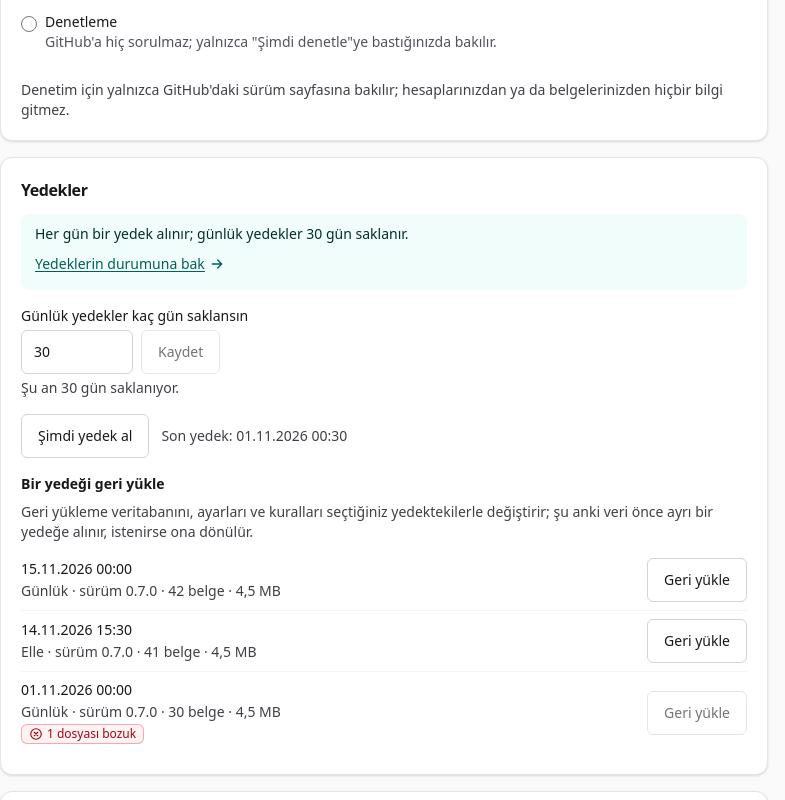
Test: SettingsPage › asks for a backup now and says when the last one was taken
(page scrolled)
Expected: the text "Son yedek: 01.11.2026 00:30" is shown, left=161, top=426, right=347, bottom=446
Click the button "Şimdi yedek al". click: (85, 436)
box: left=21, top=414, right=149, bottom=458
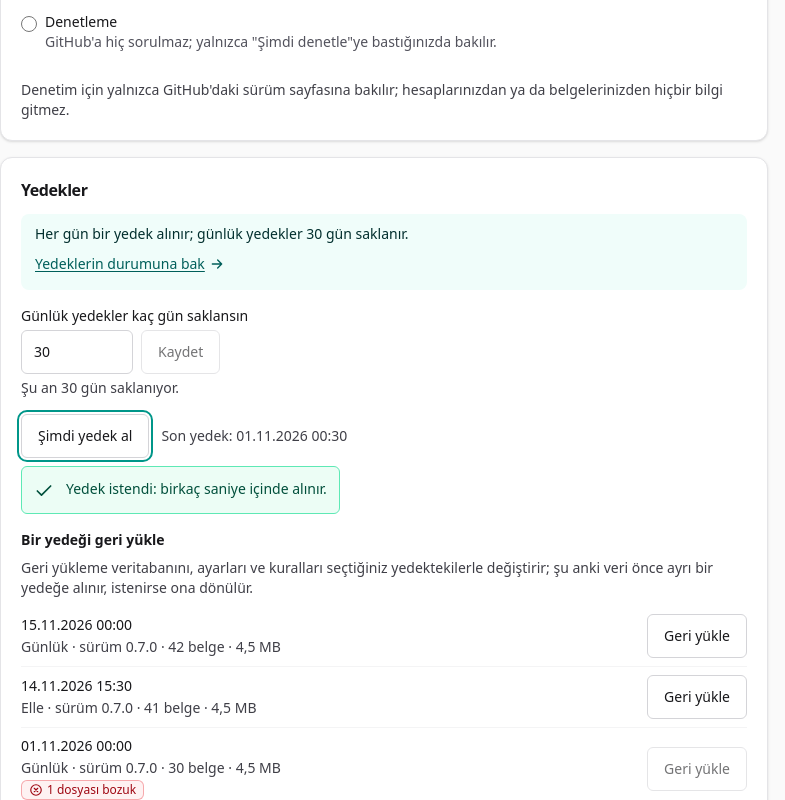
Now the text "Yedek istendi: birkaç saniye içinde alınır." is shown, box left=66, top=479, right=327, bottom=499
